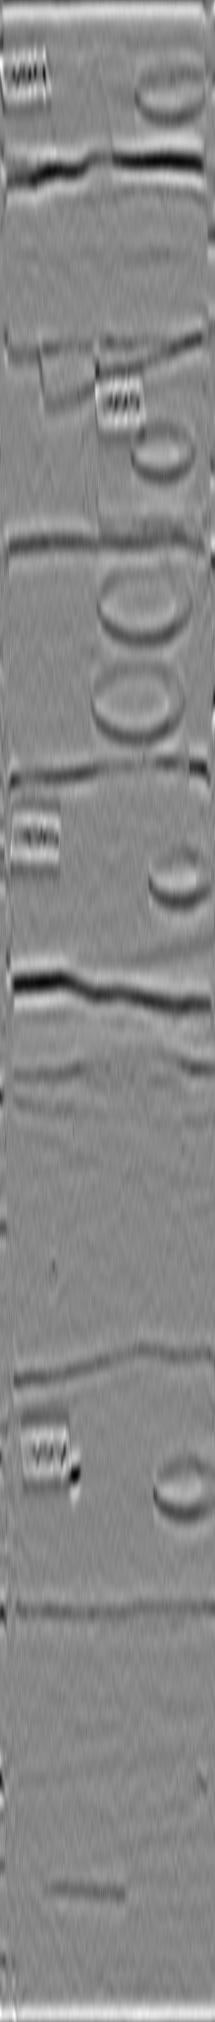hplug: (121, 417, 203, 485), (129, 61, 210, 126), (148, 1449, 215, 1523), (142, 839, 215, 907)
scal: (88, 647, 189, 747), (89, 555, 196, 649)
vplug: (33, 343, 106, 535), (39, 8, 118, 168)
